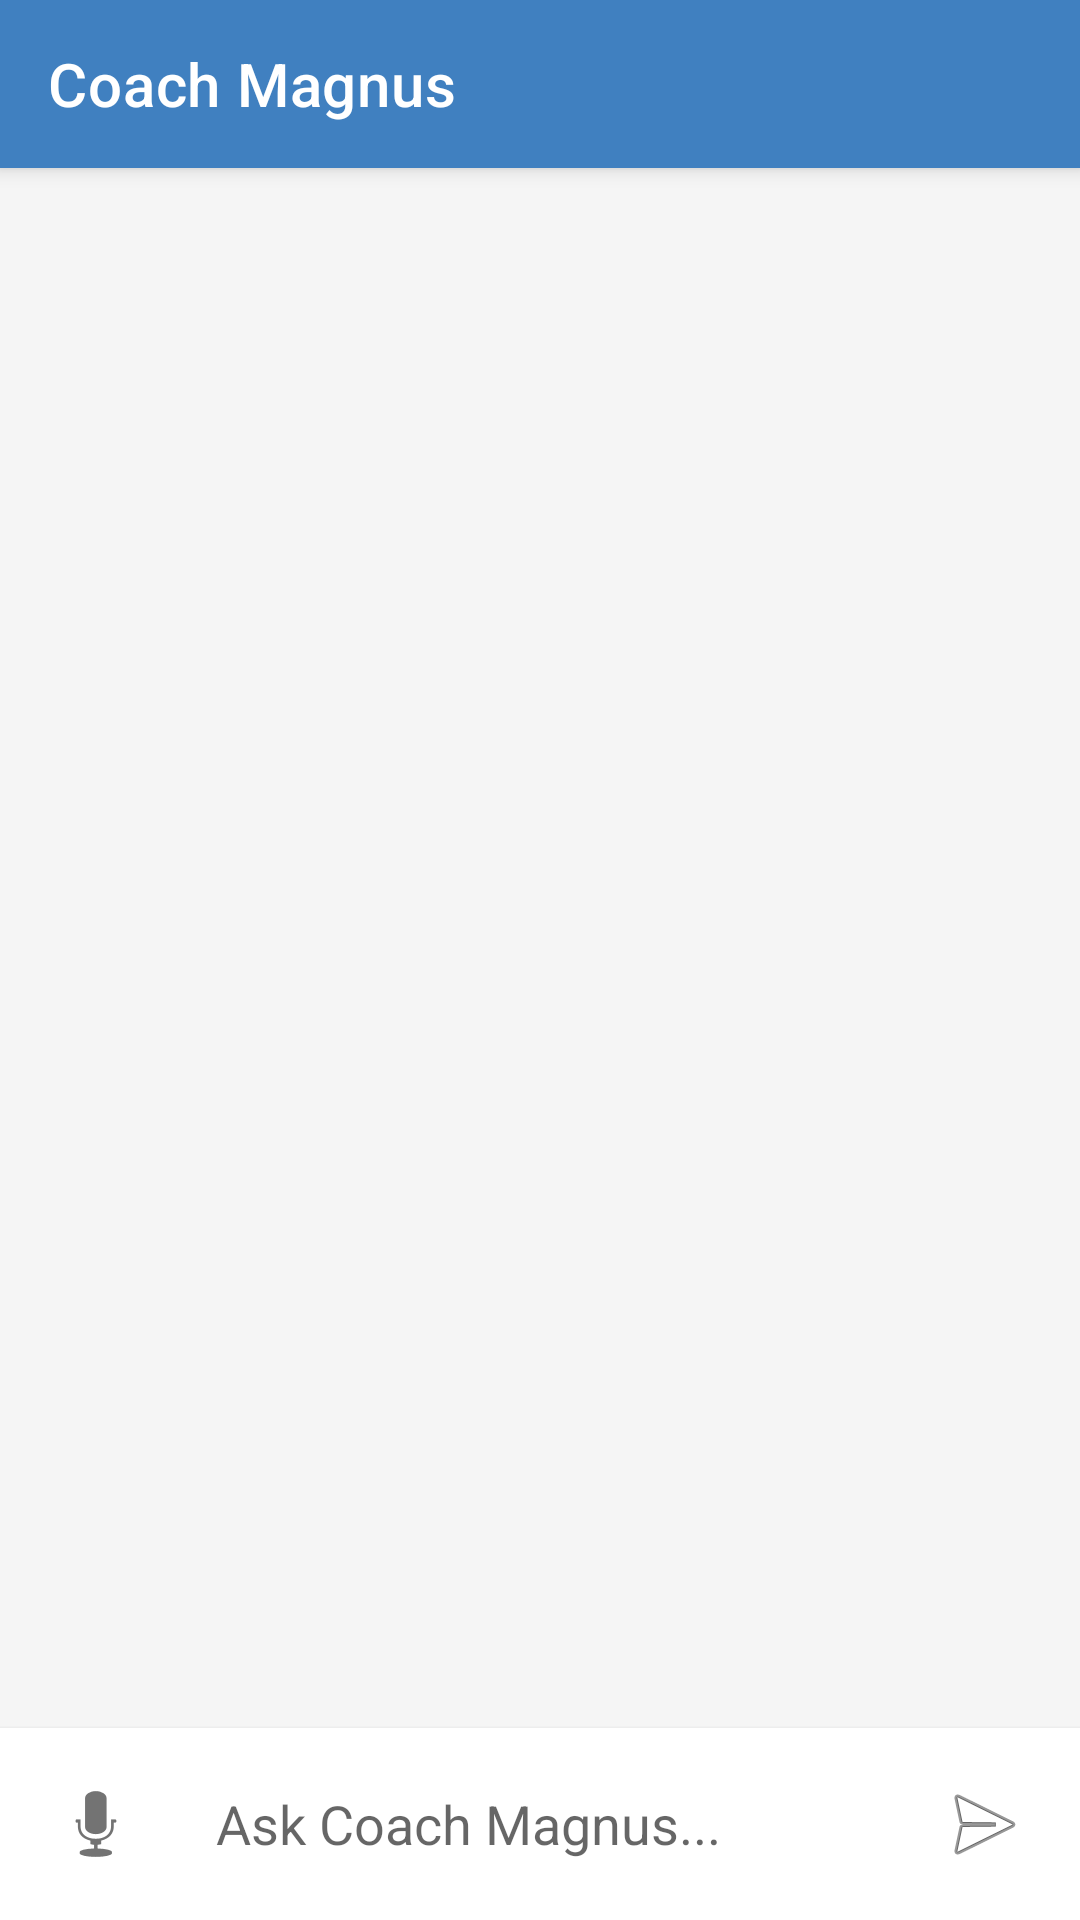

Screen size 1080 × 1920. Icon name, then its box in pixels as box(x1, y1, x2, y2):
Send Message: box(954, 1794, 1016, 1855)
Voice Input: box(75, 1791, 117, 1857)
